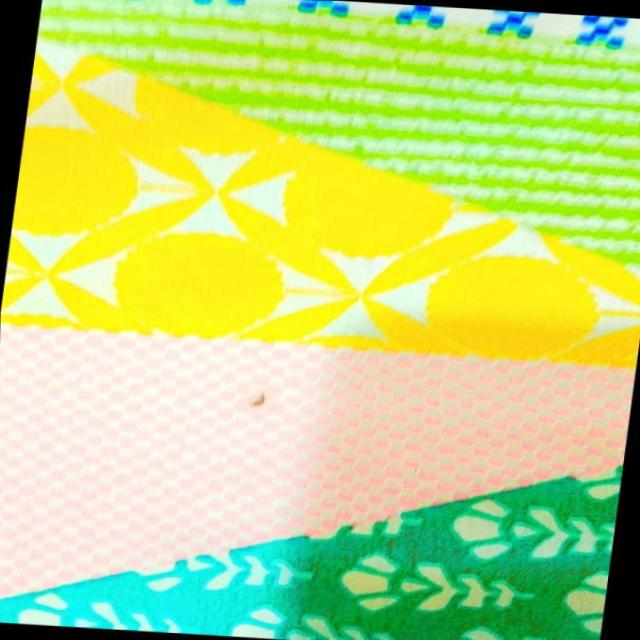stain: (232, 381, 282, 414)
